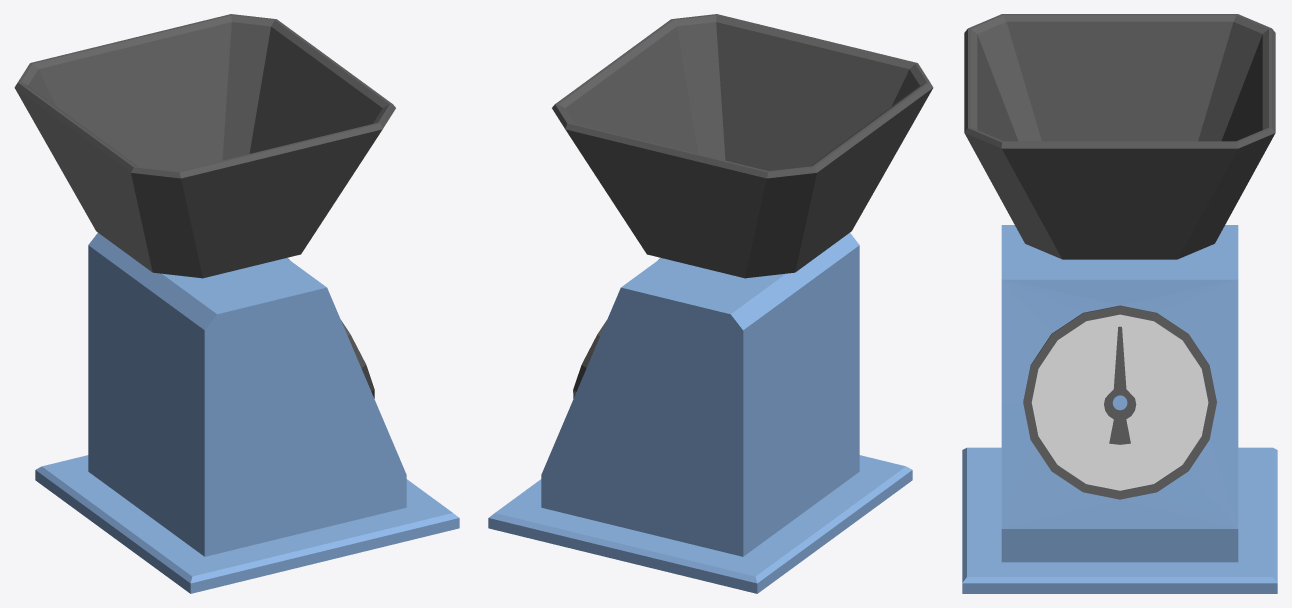
Rendered from scale.glb.
The picture shows the model from 3 angles, left to right: view 1: azimuth 30°, elevation 25°; view 2: azimuth 150°, elevation 25°; view 3: azimuth 270°, elevation 25°; orthographic projection.
Parts seen in each view (by area): view 1: Base, Tray; view 2: Base, Tray; view 3: Base, Tray, Cylinder.
Boxes of the visible parts, x1,y1,x2,y2 form: Base: (35,233,459,593); Tray: (14,14,395,278); Base: (488,233,912,593); Tray: (552,14,933,278); Base: (962,225,1277,593); Tray: (964,14,1275,259); Cylinder: (1104,326,1136,444).
Size of the model in its own units: 0.23 by 0.2995 by 0.2.
